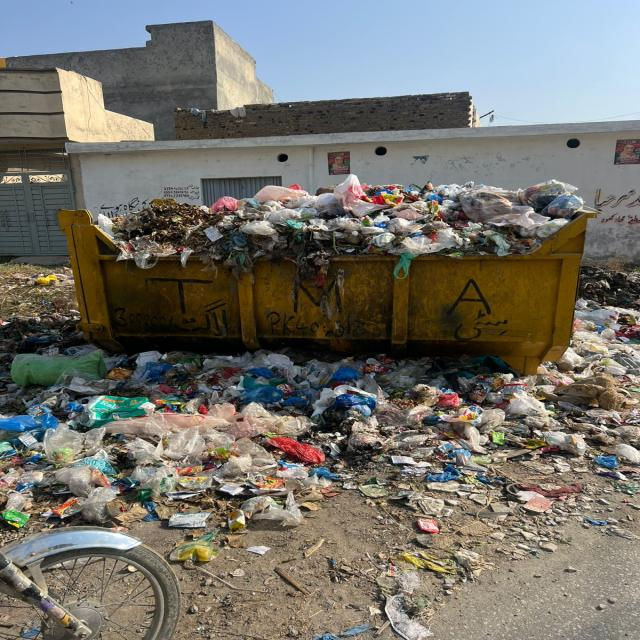garbage: (10, 314, 640, 529), (120, 182, 594, 279)
